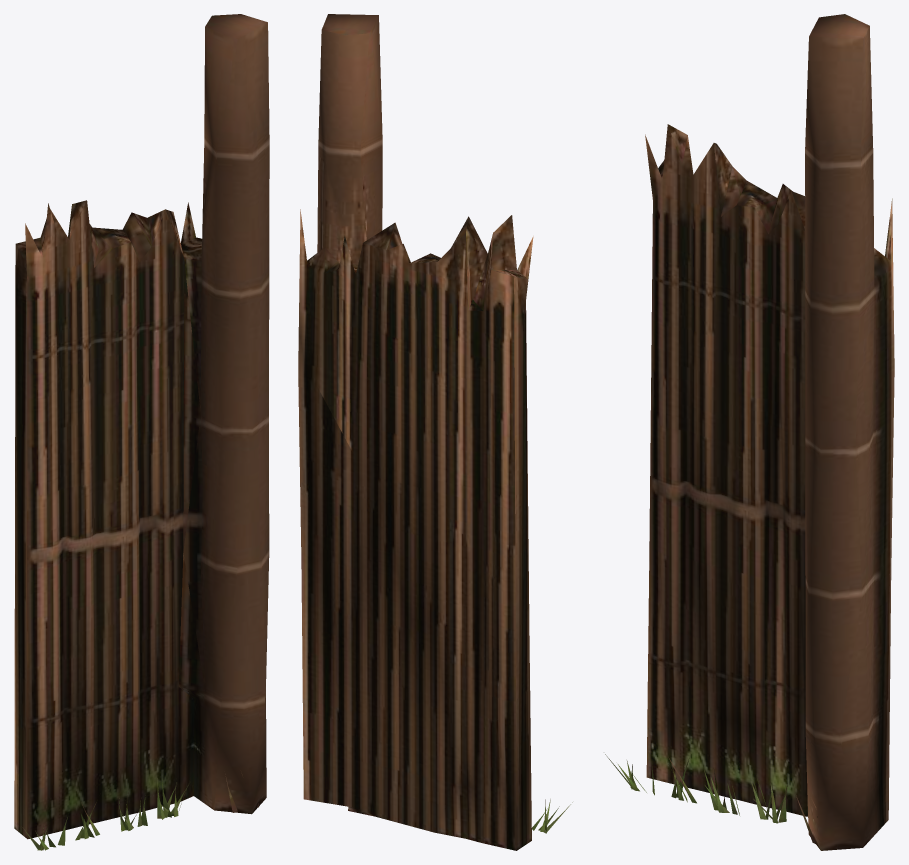
Rendered from fence_reed_end_e_tall_far.glb.
The picture shows the model from 3 angles, left to right: view 1: azimuth 30°, elevation 25°; view 2: azimuth 150°, elevation 25°; view 3: azimuth 330°, elevation 25°; orthographic projection. The views are drawn at different scales.
Visible parts, largest first — view 1: fence_reed_end_e_tall_lod1; view 2: fence_reed_end_e_tall_lod1; view 3: fence_reed_end_e_tall_lod1.
Part boxes in pixels (box(x1,y1,x2,y2)): fence_reed_end_e_tall_lod1: box(14, 14, 269, 850); fence_reed_end_e_tall_lod1: box(298, 14, 572, 850); fence_reed_end_e_tall_lod1: box(605, 14, 894, 850).
Bounding box in the file's own units: 0.6286 × 1.87 × 0.1964.
Materials: 1 (1 with a texture image).
